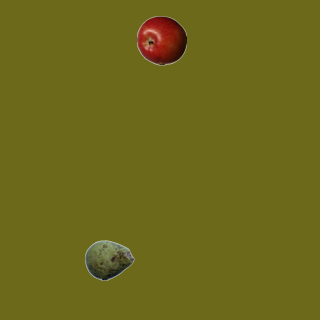Apple Braeburn: (136, 15, 186, 65)
Pear Stone: (84, 235, 134, 285)
